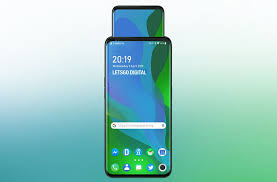oppo: (101, 33, 174, 178)
